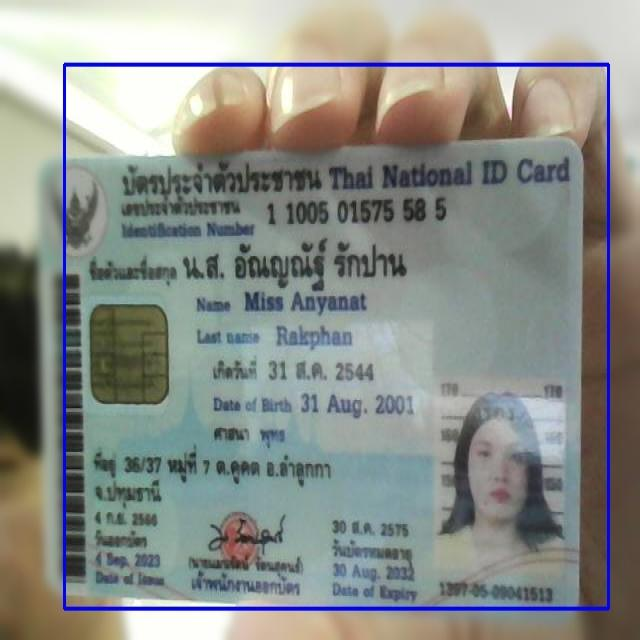Address_th: (85, 441, 356, 512)
Date_of_Birth: (297, 388, 418, 422)
First_Name: (240, 286, 369, 319)
ID_Number: (260, 194, 454, 229)
Image: (435, 375, 567, 586)
Last_Name: (271, 320, 356, 354)
Thai_Name: (175, 236, 414, 292)
